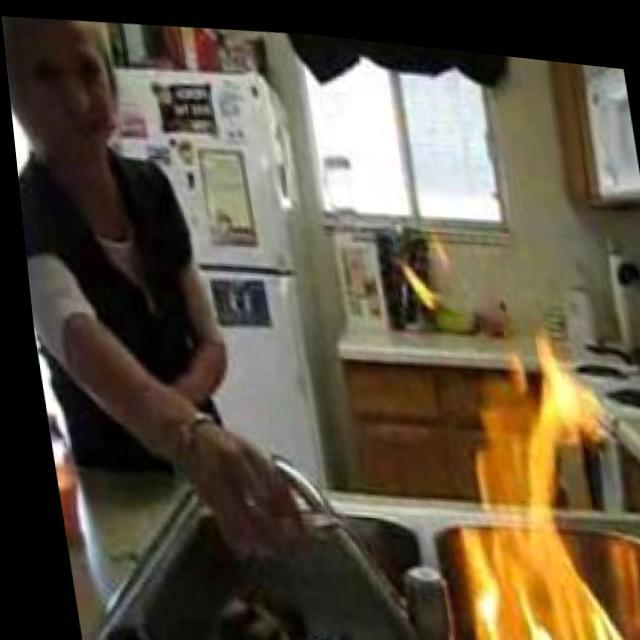fire: (412, 327, 640, 640), (396, 229, 456, 303)
